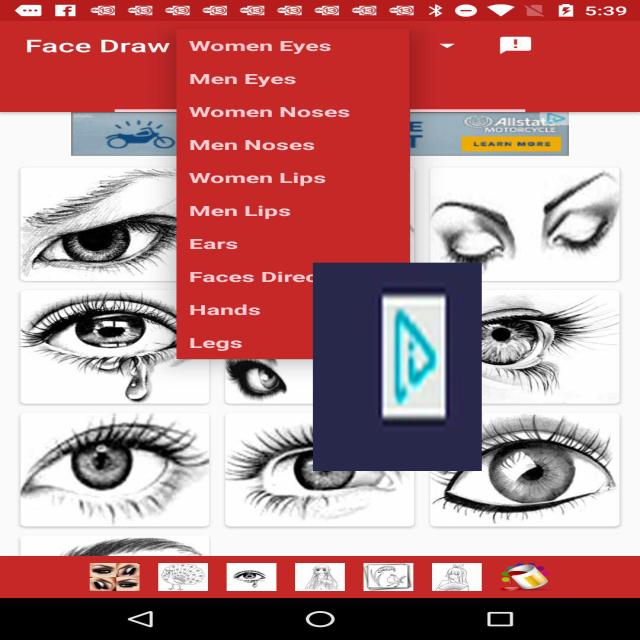sneaking: (313, 263, 482, 471)
